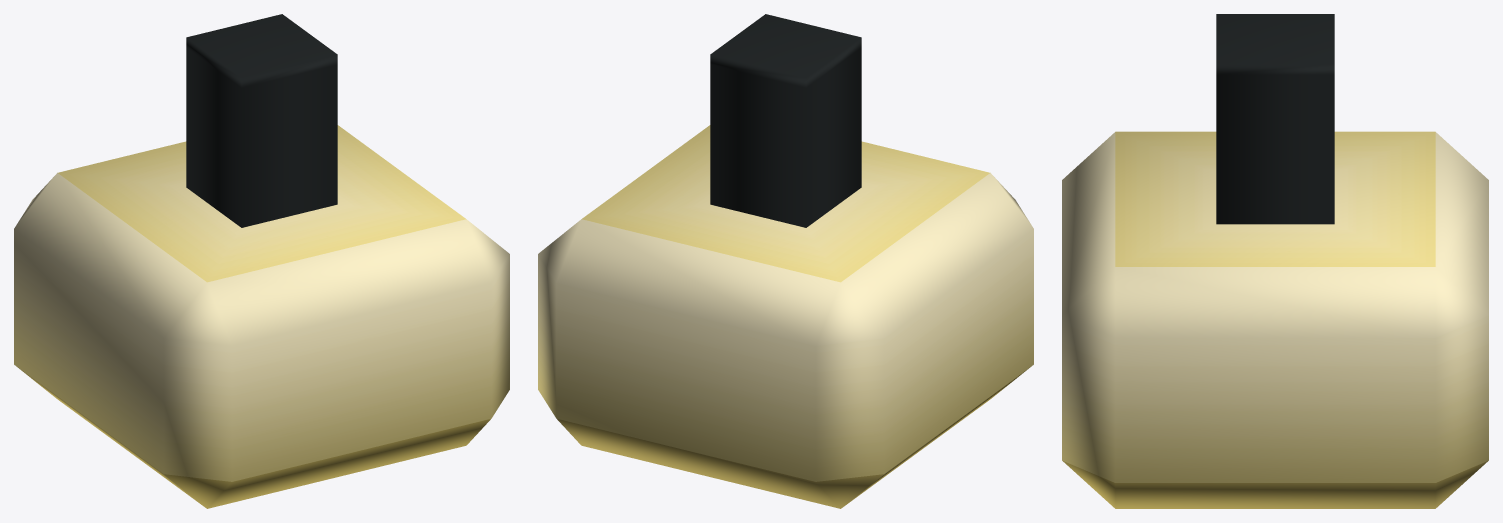
Rendered from candle_medium_3.fbx.
3 views of the same model, side by side, from view 1: azimuth 30°, elevation 25°; view 2: azimuth 150°, elevation 25°; view 3: azimuth 270°, elevation 25° (orthographic). The views are drawn at different scales.
Parts seen in each view (by area): view 1: candle_medium_3; view 2: candle_medium_3; view 3: candle_medium_3.
Part boxes in pixels (x1,y1,x2,y2): candle_medium_3: (14, 14, 509, 508); candle_medium_3: (538, 14, 1033, 508); candle_medium_3: (1062, 14, 1488, 508).
Size of the model in its own units: 26.94 by 28.01 by 26.94.
